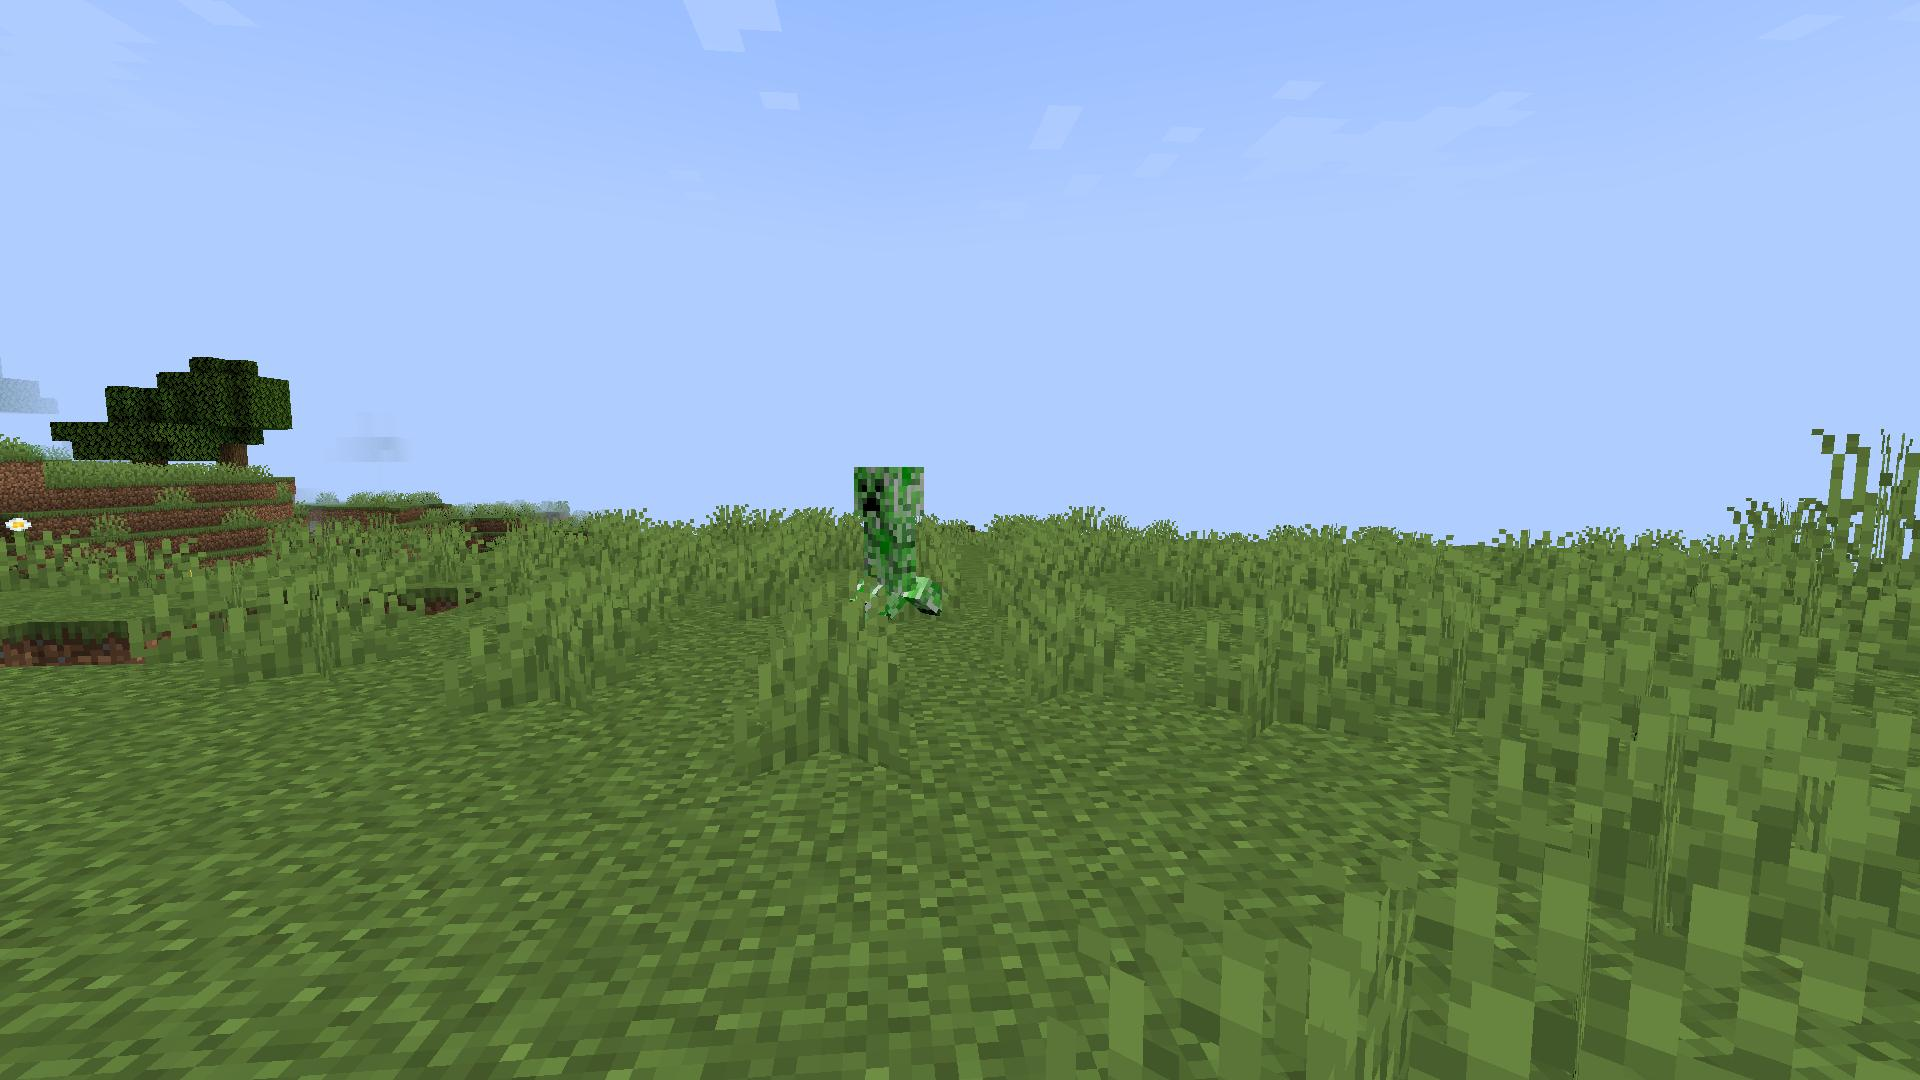creeper: (844, 451, 955, 642)
